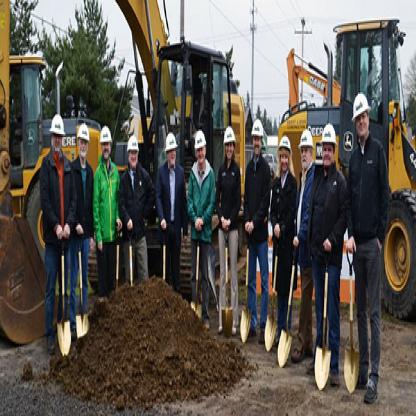person: (348, 83, 390, 402), (310, 102, 347, 391), (39, 101, 68, 364), (214, 114, 247, 344), (242, 114, 272, 350), (272, 120, 301, 361), (188, 108, 219, 322), (120, 114, 155, 302), (156, 117, 190, 296), (294, 116, 318, 364), (91, 106, 119, 310), (71, 118, 95, 330)
